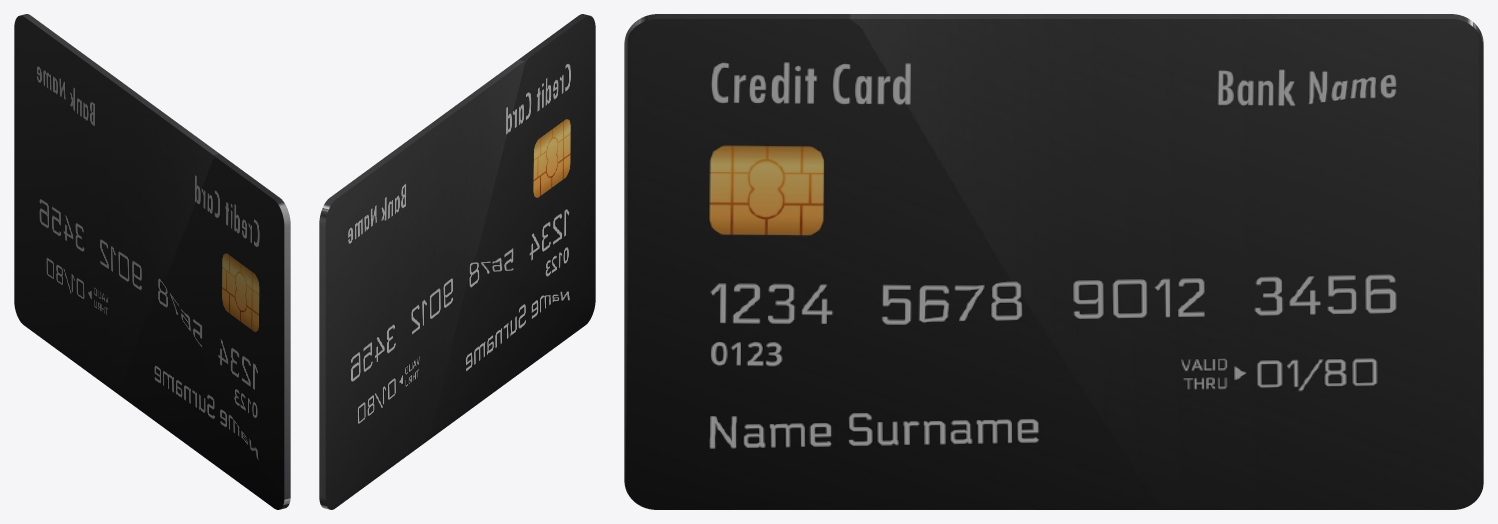
3 renders of one model, left to right at view 1: azimuth 30°, elevation 25°; view 2: azimuth 150°, elevation 25°; view 3: azimuth 270°, elevation 25°, orthographic. The views are drawn at different scales.
Visible parts, largest first — view 1: Plane; view 2: Plane; view 3: Plane.
Boxes of the visible parts, x1,y1,x2,y2 form: Plane: (14,14,290,509); Plane: (319,14,595,509); Plane: (624,14,1483,509).
Bounding box in the file's own units: 0.0116 × 0.5398 × 0.856.
1 material, 1 textured.
